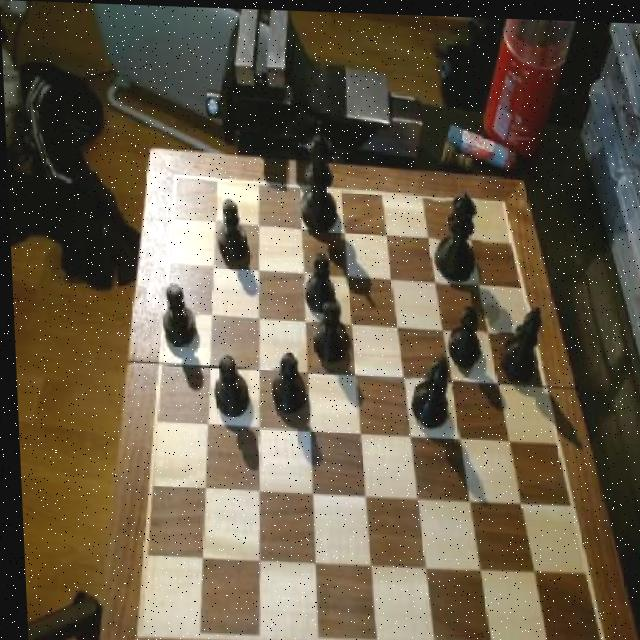bishop: (494, 299, 545, 383), (404, 348, 451, 432)
black-bishop: (294, 116, 340, 235)
black-knight: (208, 352, 248, 421), (157, 280, 197, 349), (441, 300, 482, 367), (266, 349, 305, 418), (211, 195, 249, 263), (307, 296, 342, 362), (299, 248, 334, 313)
black-pawn: (431, 188, 482, 283)
